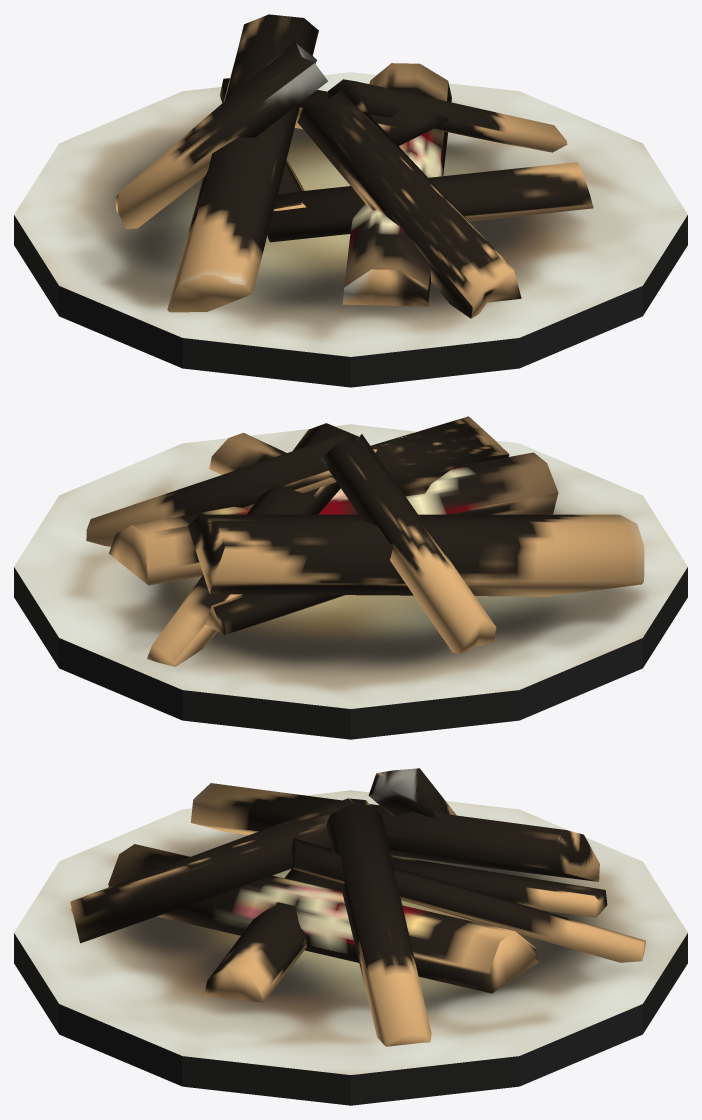
File: Fireplace.gltf
The picture shows the model from 3 angles, top to bottom: view 1: azimuth 30°, elevation 25°; view 2: azimuth 150°, elevation 25°; view 3: azimuth 270°, elevation 25°; orthographic projection.
Parts seen in each view (by area): view 1: Cylinder, Cube.002, Cube.009, Cube.008, Cube.004, Cube.005, Cube.010, Cube.007, Cube.006; view 2: Cylinder, Cube.002, Cube.005, Cube.008, Cube.010, Cube.007, Cube.009, Cube.006, Cube.004; view 3: Cylinder, Cube.005, Cube.002, Cube.010, Cube.009, Cube.007, Cube.004, Cube.006, Cube.008.
Boxes of the visible parts, x1=… form: Cylinder: x1=14, y1=72, x2=687, y2=387; Cube.002: x1=167, y1=14, x2=318, y2=312; Cube.009: x1=297, y1=91, x2=521, y2=318; Cube.008: x1=115, y1=40, x2=327, y2=228; Cube.004: x1=267, y1=162, x2=593, y2=242; Cube.005: x1=342, y1=63, x2=451, y2=306; Cube.010: x1=327, y1=79, x2=567, y2=152; Cube.007: x1=294, y1=90, x2=451, y2=145; Cube.006: x1=219, y1=78, x2=305, y2=210; Cylinder: x1=14, y1=424, x2=687, y2=739; Cube.002: x1=188, y1=514, x2=644, y2=596; Cube.005: x1=109, y1=452, x2=558, y2=585; Cube.008: x1=321, y1=434, x2=496, y2=654; Cube.010: x1=86, y1=433, x2=355, y2=546; Cube.007: x1=147, y1=423, x2=358, y2=666; Cube.009: x1=328, y1=416, x2=509, y2=496; Cube.006: x1=205, y1=594, x2=345, y2=635; Cube.004: x1=209, y1=432, x2=286, y2=474; Cylinder: x1=14, y1=790, x2=687, y2=1105; Cube.005: x1=108, y1=844, x2=538, y2=993; Cube.002: x1=191, y1=783, x2=599, y2=881; Cube.010: x1=326, y1=804, x2=431, y2=1046; Cube.009: x1=70, y1=798, x2=387, y2=943; Cube.007: x1=290, y1=838, x2=645, y2=962; Cube.004: x1=204, y1=868, x2=341, y2=1002; Cube.006: x1=391, y1=855, x2=607, y2=917; Cube.008: x1=368, y1=768, x2=456, y2=816.
Size of the model in its own units: 2 by 0.6044 by 2.
Materials: 2 (2 with a texture image).
